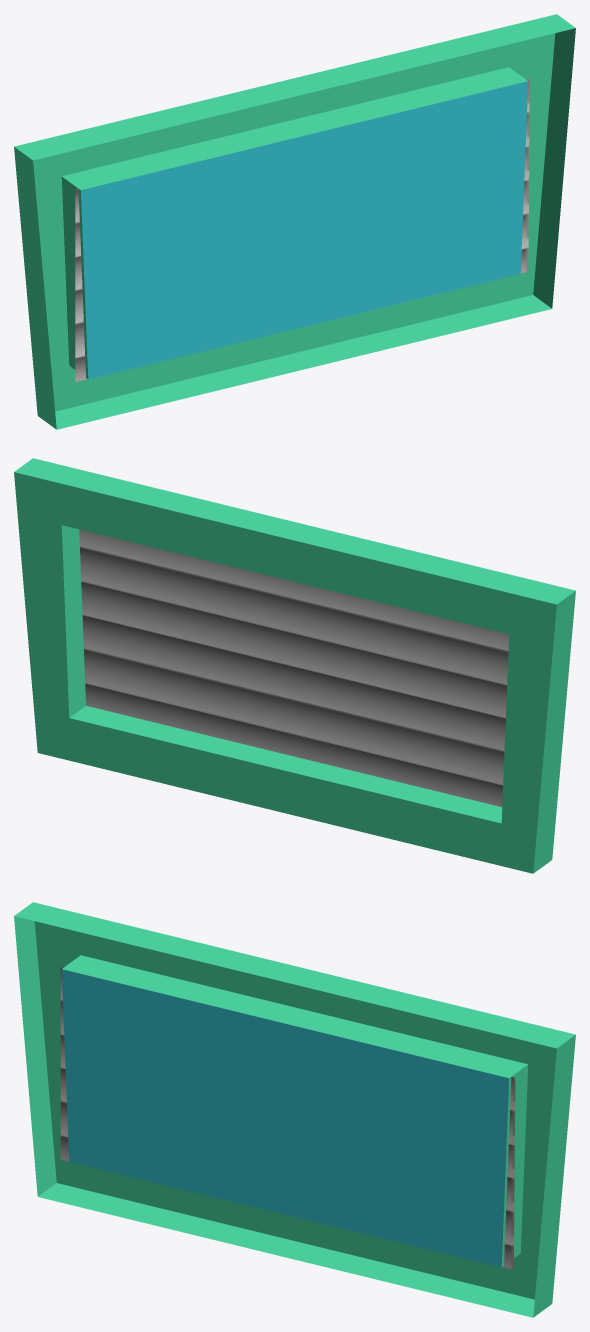
Rendered from WindowWide.fbx.
3 views of the same model, one above another, from view 1: azimuth 30°, elevation 25°; view 2: azimuth 150°, elevation 25°; view 3: azimuth 330°, elevation 25° (orthographic).
Visible parts, largest first — view 1: WindowWide, Blind.001; view 2: WindowWide, Blind.001; view 3: WindowWide, Blind.001.
Part boxes in pixels (x1,y1,x2,y2): WindowWide: (14,14,575,429); Blind.001: (75,78,529,382); WindowWide: (14,458,575,873); Blind.001: (79,529,508,806); WindowWide: (14,902,575,1317); Blind.001: (60,967,515,1269).
Bounding box in the file's own units: 247 × 119 × 15.
